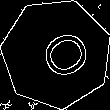O_SW: (23, 22, 89, 85)
